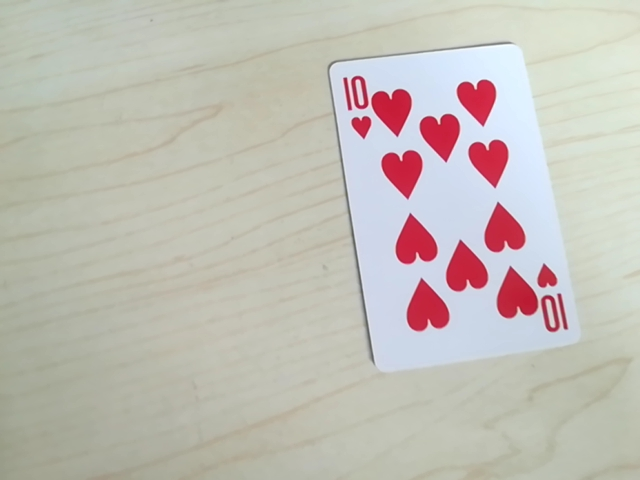hx 10: (340, 65, 376, 120), (536, 292, 572, 339)
